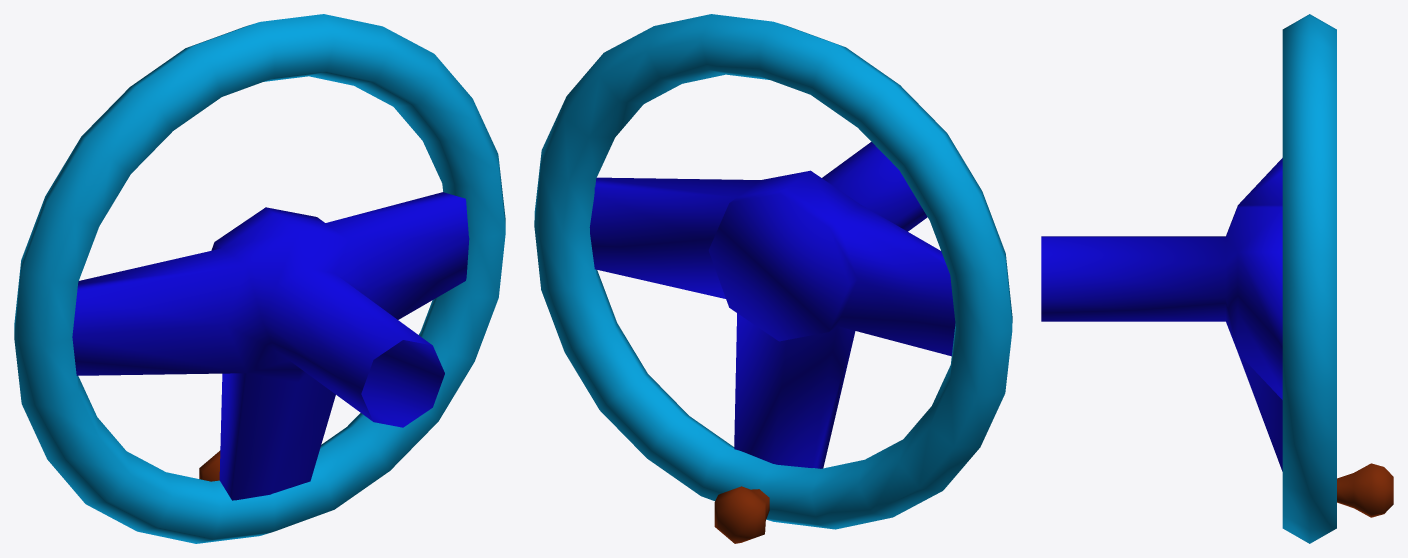
File: VC_SteeringWheel_01.fbx
3 views of the same model, side by side, from view 1: azimuth 30°, elevation 25°; view 2: azimuth 150°, elevation 25°; view 3: azimuth 270°, elevation 25° (orthographic). The views are drawn at different scales.
Visible parts, largest first — view 1: VC_SteeringWheel_low; view 2: VC_SteeringWheel_low; view 3: VC_SteeringWheel_low.
Boxes of the visible parts, x1,y1,x2,y2 form: VC_SteeringWheel_low: (14, 14, 505, 543); VC_SteeringWheel_low: (534, 14, 1012, 543); VC_SteeringWheel_low: (1041, 14, 1393, 543).
Bounding box in the file's own units: 0.3385 × 0.3385 × 0.2244.
